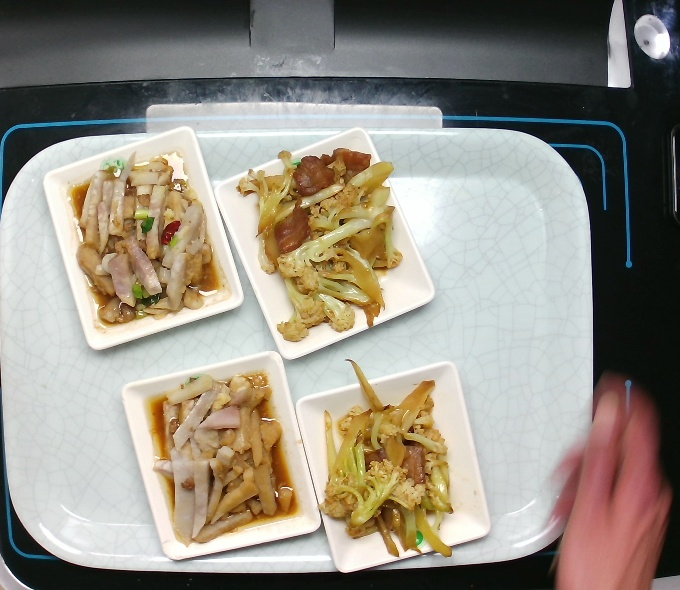wcq-QiuCaiChaoRou: (241, 138, 416, 350), (319, 360, 467, 569)
wcq-YuTou: (56, 149, 230, 330), (146, 367, 307, 551)
